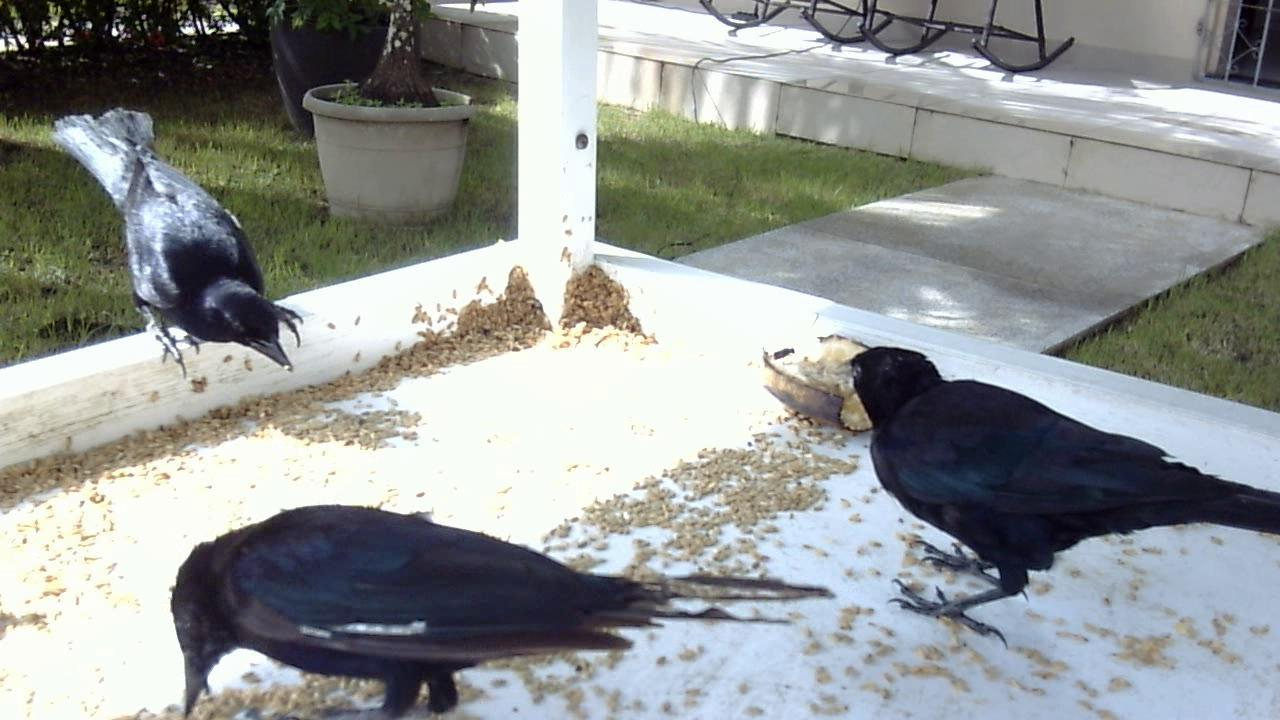chupim: (148, 493, 857, 715), (838, 343, 1280, 655), (45, 107, 315, 389)
